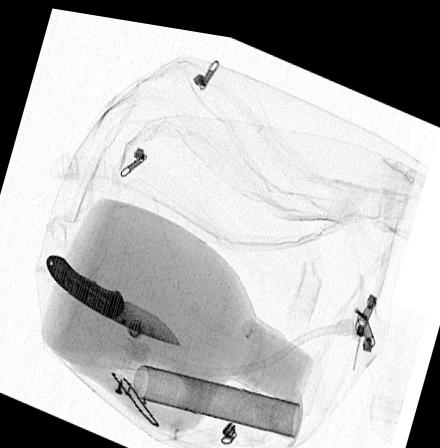Knife: (45, 253, 182, 340)
